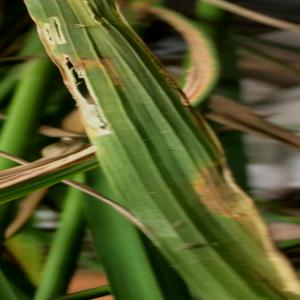2 BacterialBlight: (146, 153, 268, 300)
